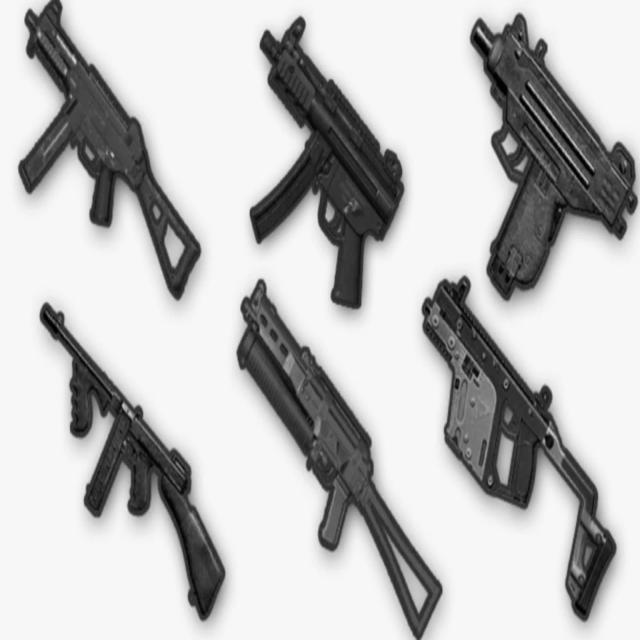Sub-machine-gun: (230, 290, 444, 639), (428, 256, 620, 640), (19, 307, 231, 638), (13, 0, 203, 299), (237, 19, 418, 321), (453, 12, 636, 290)
